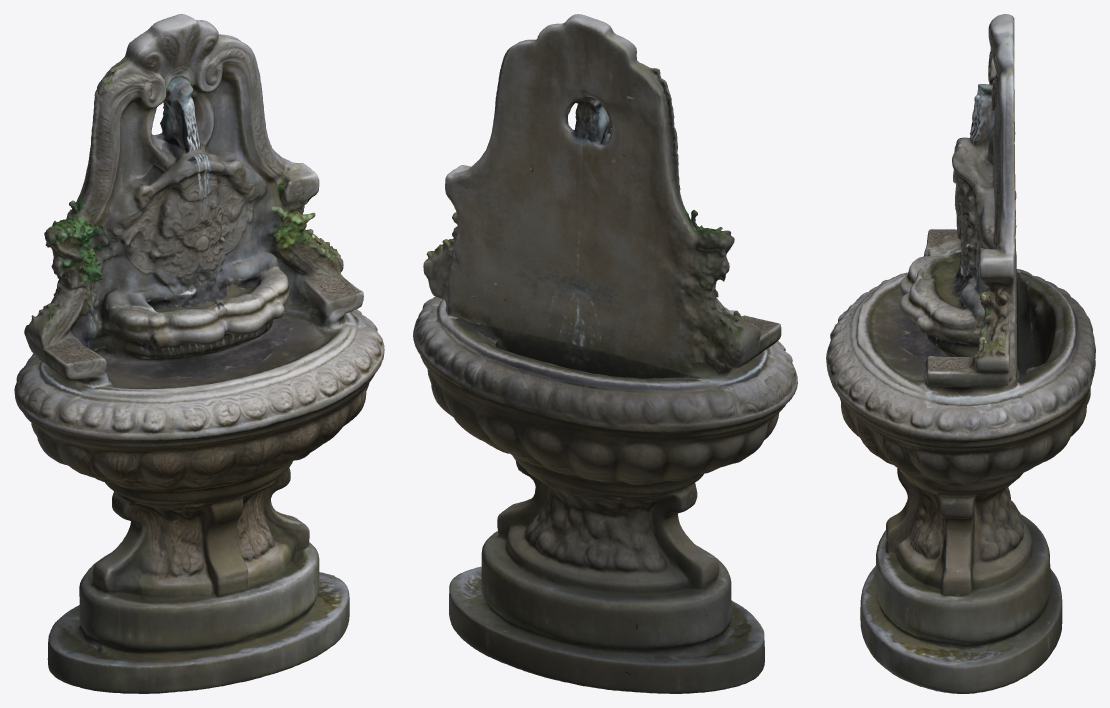
The model's file is fountain.glb.
The picture shows the model from 3 angles, left to right: view 1: azimuth 30°, elevation 25°; view 2: azimuth 150°, elevation 25°; view 3: azimuth 270°, elevation 25°; orthographic projection. The views are drawn at different scales.
Bounding box in the file's own units: 1.17 × 2 × 0.8062.
Materials: 1 (1 with a texture image).
